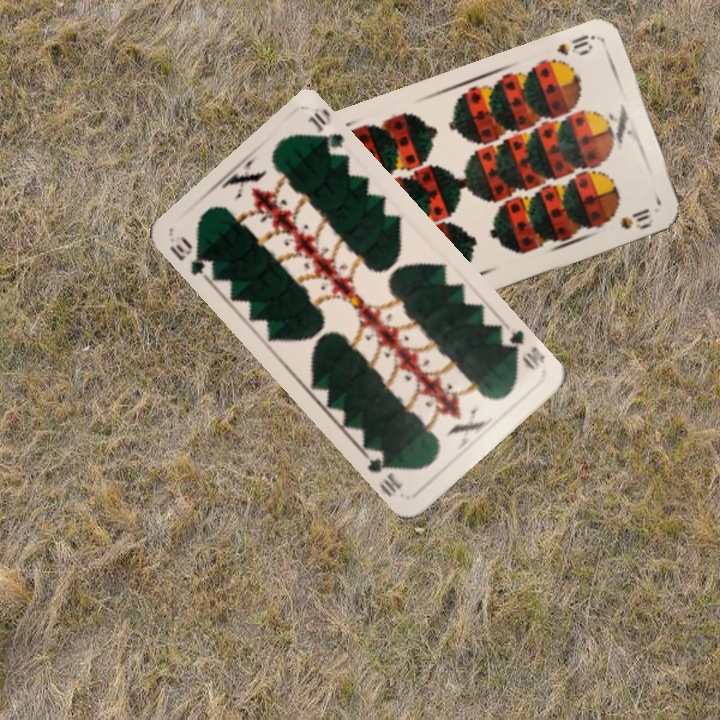G10: (165, 232, 217, 283), (500, 326, 548, 373)
S10: (553, 30, 597, 58)
